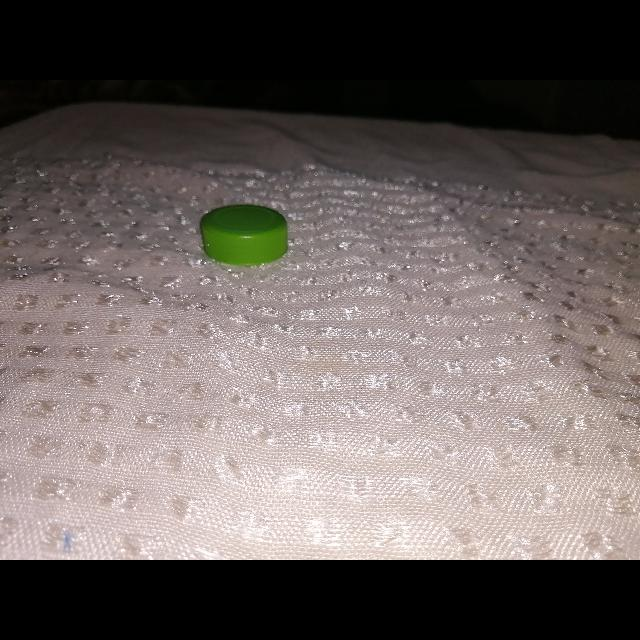plastic_bottle_cap: (200, 204, 290, 266)
